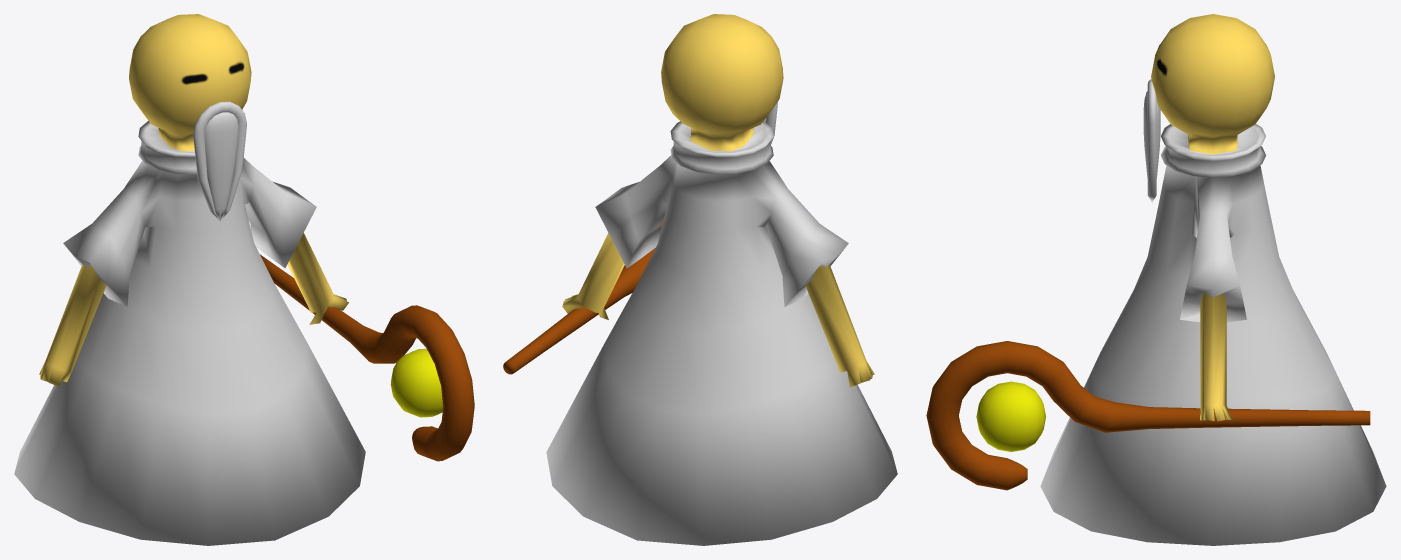
The model's file is elder.glb.
The picture shows the model from 3 angles, left to right: view 1: azimuth 30°, elevation 25°; view 2: azimuth 150°, elevation 25°; view 3: azimuth 270°, elevation 25°; orthographic projection.
Parts seen in each view (by area): view 1: Circle; view 2: Circle; view 3: Circle.
Part boxes in pixels (x1,y1,x2,y2): Circle: (14, 14, 474, 545); Circle: (503, 14, 897, 545); Circle: (926, 14, 1386, 545).
Bounding box in the file's own units: 0.9263 × 1.27 × 1.13.
4 materials, 1 textured.
